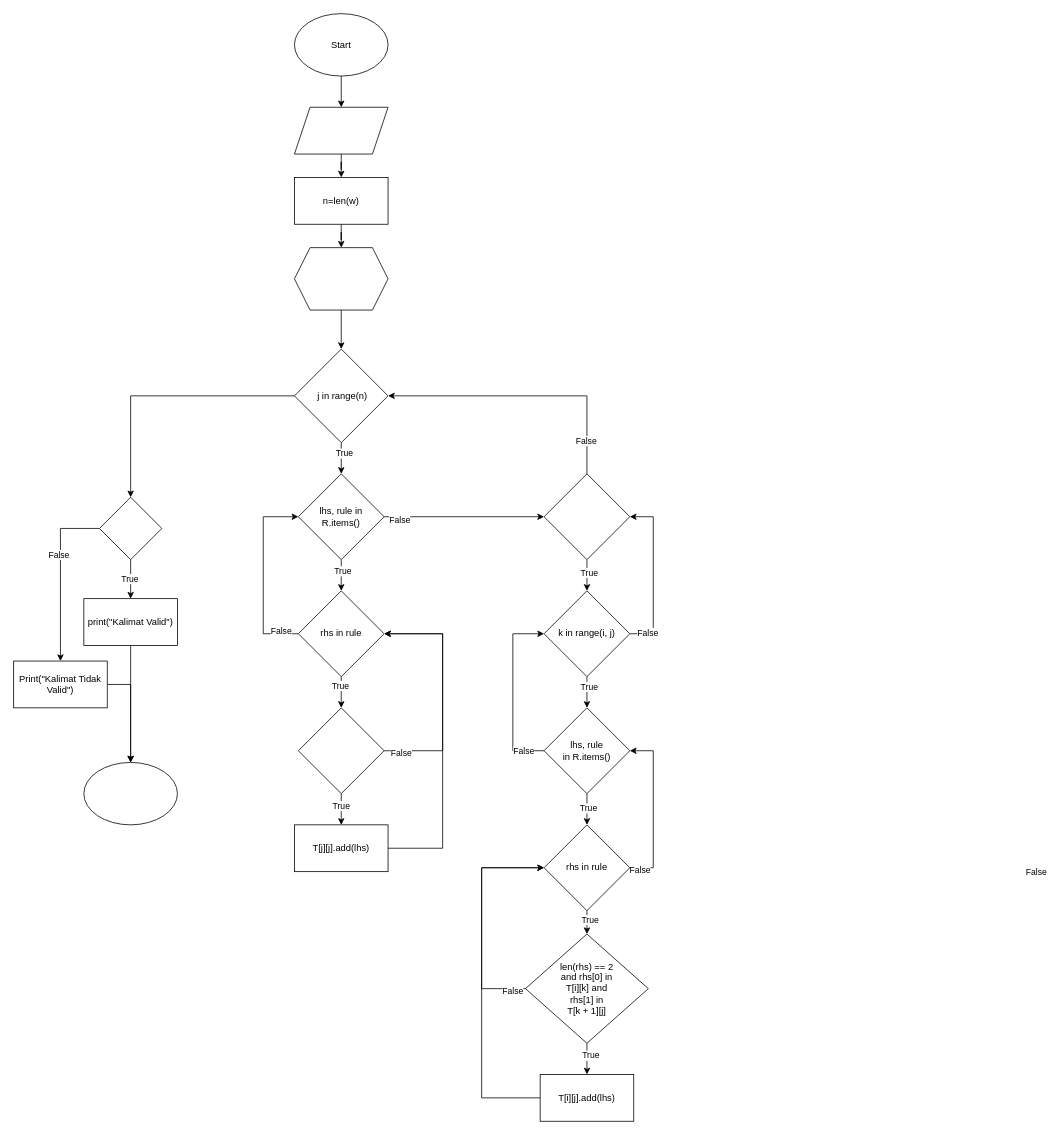
Image size: 1060x1135. Some labels were removed from this diagram. Here are the shapes that lost their labels. From the top down, the centre of each, then its label:
[341,130]: Kalimat (w)
[341,278]: T = [[set() for _ in range(n)] for _ in range(n)]
[130,528]: "K" in T[0][n-1]
[586,516]: i in range(j, -1, -1)
[341,750]: len(rhs) == 1 and rhs[0] == w[j]
[130,793]: End
